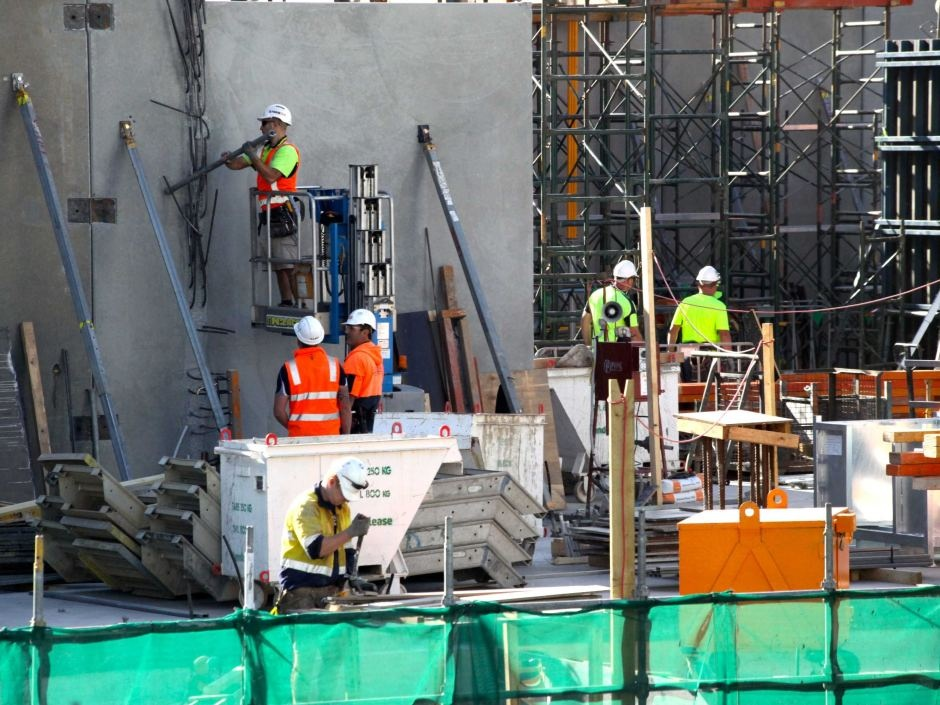white: (320, 455, 368, 507), (257, 103, 292, 140), (345, 309, 375, 344), (292, 315, 322, 348), (695, 264, 721, 295), (613, 258, 636, 290)
